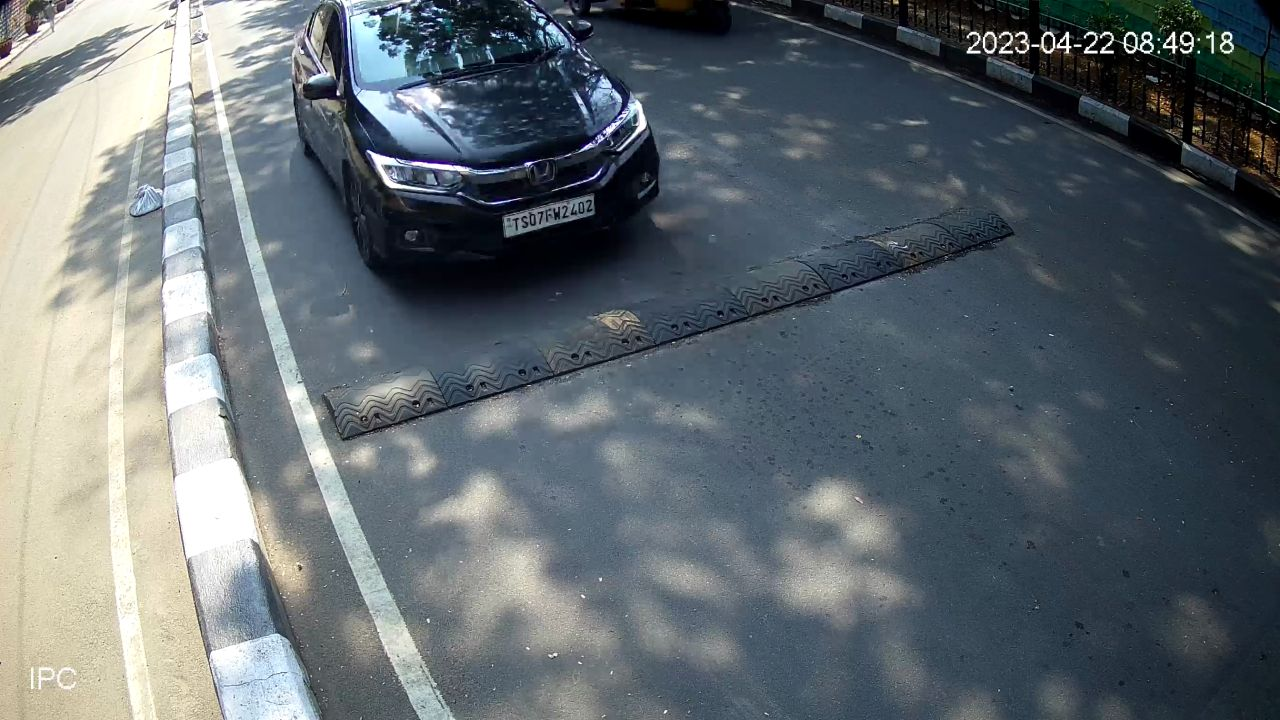license_plate: (498, 189, 599, 243)
